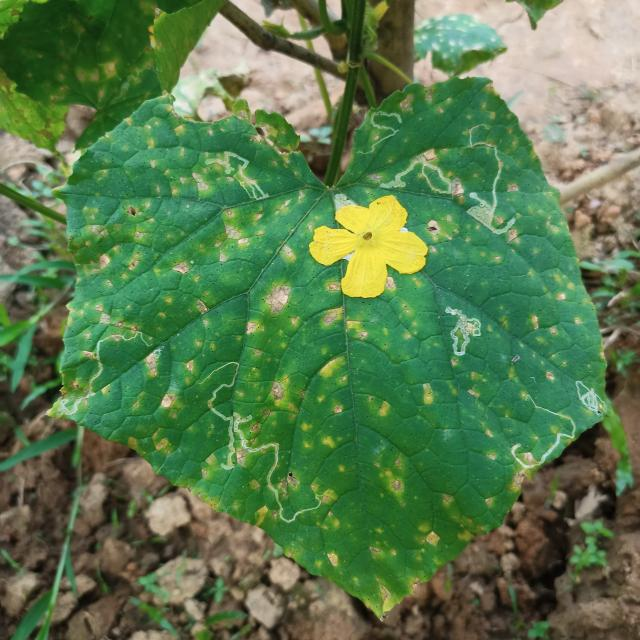disease_cucumber: (82, 109, 599, 568)
